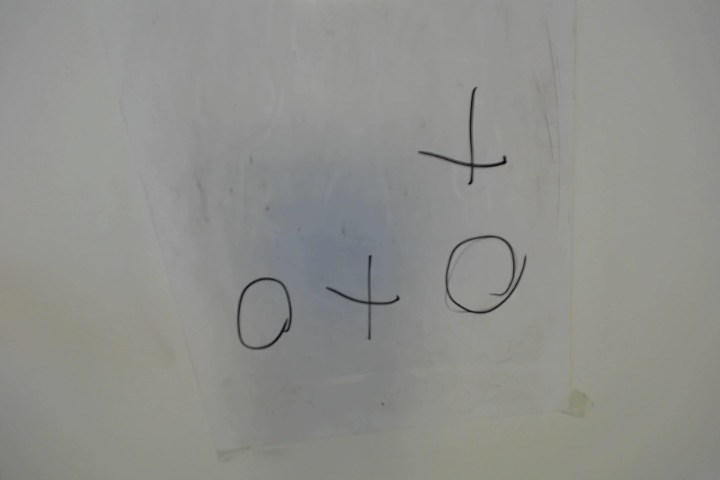0: (440, 228, 530, 319), (237, 271, 296, 353)
x: (409, 85, 509, 191), (317, 245, 404, 336)
